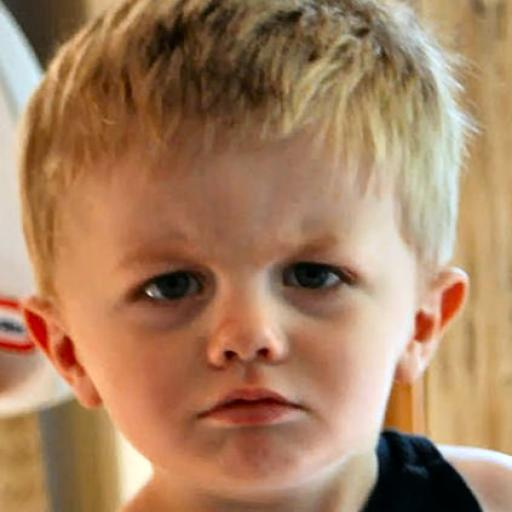Autism: (6, 12, 485, 512)
